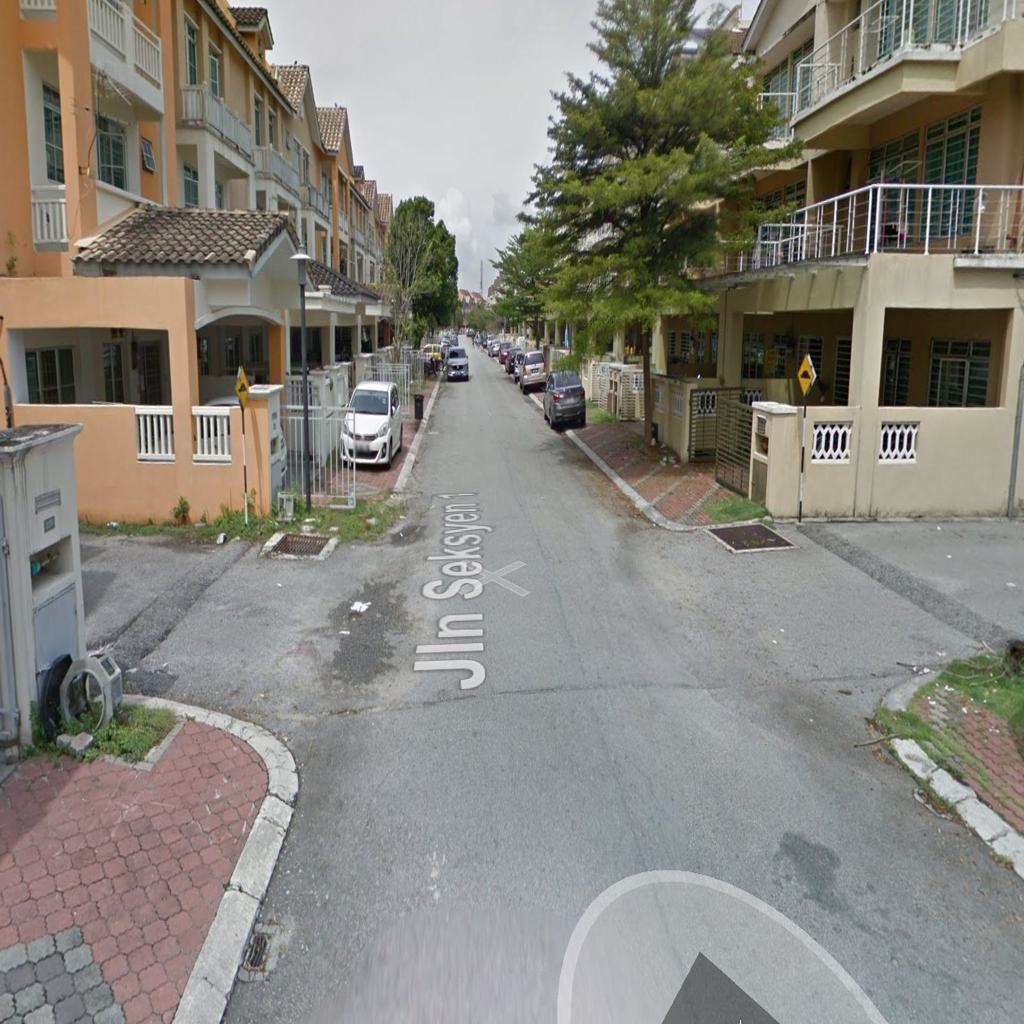Junction: (76, 477, 460, 781), (653, 475, 1022, 768)
